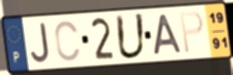2: (90, 16, 115, 61)
A: (152, 13, 184, 57)
C: (53, 18, 83, 63)
J: (29, 21, 52, 65)
P: (178, 10, 206, 56)
U: (113, 12, 148, 62)
